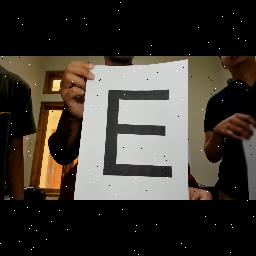e: (100, 86, 178, 184)
